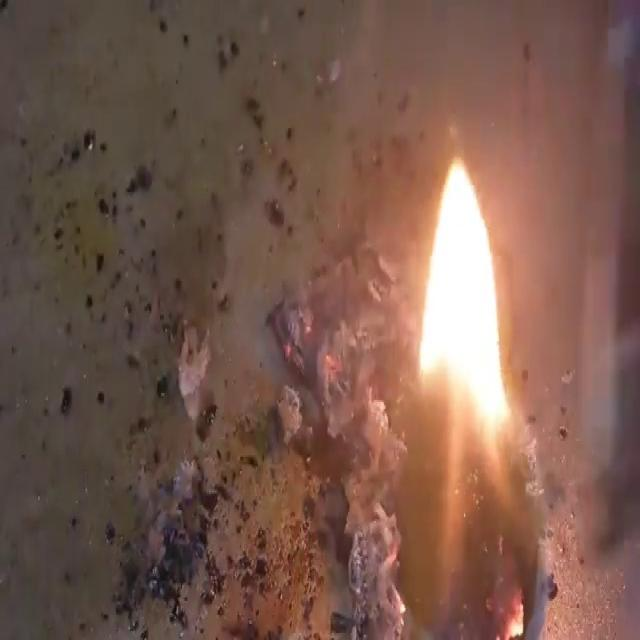Fire: (3, 4, 634, 636), (415, 153, 513, 441)
